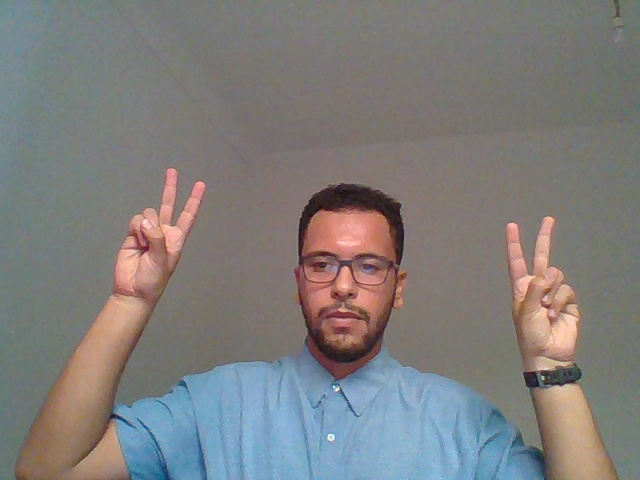vectory: (73, 152, 213, 445), (467, 188, 603, 467)
